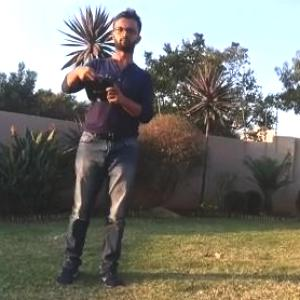follow: (51, 3, 158, 289)
